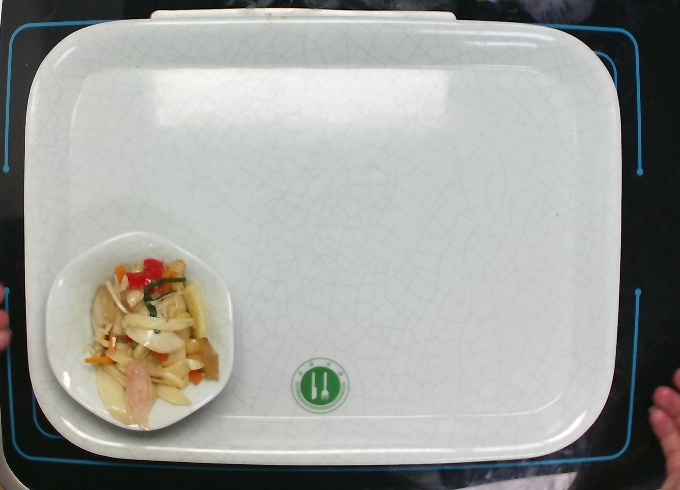WCQzf-Hua_Duo_Wan: (43, 229, 236, 433)
